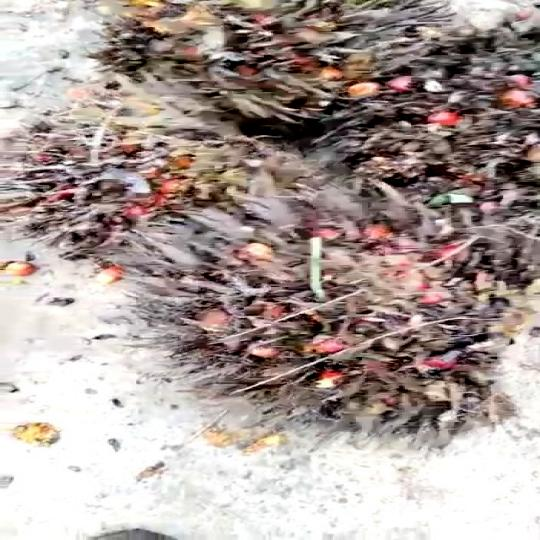terlalu masak: (86, 176, 537, 444), (113, 1, 460, 121), (0, 112, 278, 259)
